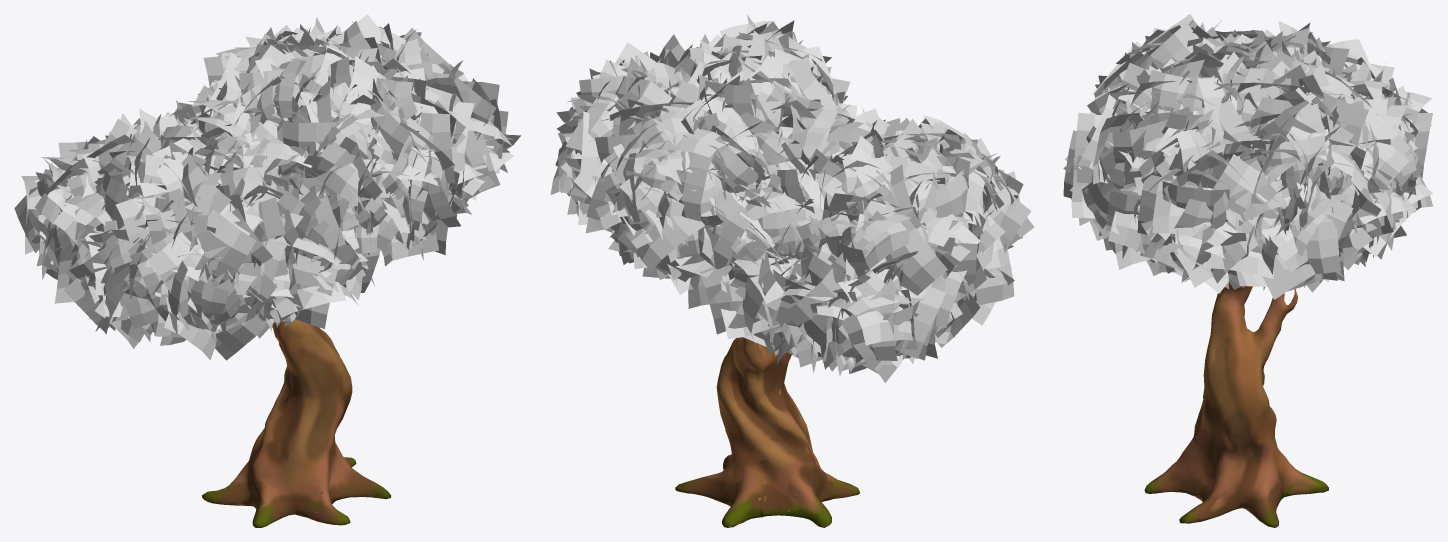
The model's file is OptimizedCherryTree.fbx.
3 renders of one model, left to right at view 1: azimuth 30°, elevation 25°; view 2: azimuth 150°, elevation 25°; view 3: azimuth 270°, elevation 25°, orthographic. The views are drawn at different scales.
Visible parts, largest first — view 1: tree_hp_LOD0, leafs2|cherry|Dupli|441, leafs2|cherry|Dupli|496, leafs2|cherry|Dupli|419, leafs|cherry|Dupli|652, leafs|cherry|Dupli|598, leafs2|cherry|Dupli|312, leafs|cherry|Dupli|441, leafs|cherry|Dupli|521, leafs2|cherry|Dupli|478, leafs2|cherry|Dupli|453, leafs|cherry|Dupli|753 (+42 smaller); view 2: tree_hp_LOD0, leafs2|cherry|Dupli|721, leafs|cherry|Dupli|943, leafs|cherry|Dupli|989, leafs2|cherry|Dupli|828, leafs|cherry|Dupli|971, leafs2|cherry|Dupli|606, leafs2|cherry|Dupli|728, leafs2|cherry|Dupli|920, leafs2|cherry|Dupli|767, leafs2|cherry|Dupli|652, leafs2|cherry|Dupli|787 (+44 smaller); view 3: tree_hp_LOD0, leafs|cherry|Dupli|300, leafs|cherry|Dupli|186, leafs|cherry|Dupli|211, leafs|cherry|Dupli|372, leafs|cherry|Dupli|428, leafs|cherry|Dupli|473, leafs|cherry|Dupli|229, leafs2|cherry|Dupli|473, leafs|cherry|Dupli|492, leafs|cherry|Dupli|55, leafs|cherry|Dupli|370 (+50 smaller).
Boxes of the visible parts, x1,y1,x2,y2 form: tree_hp_LOD0: (202,319,390,527); leafs2|cherry|Dupli|441: (197,196,256,284); leafs2|cherry|Dupli|496: (148,232,213,317); leafs2|cherry|Dupli|419: (215,305,266,360); leafs|cherry|Dupli|652: (282,121,340,165); leafs|cherry|Dupli|598: (315,159,382,202); leafs2|cherry|Dupli|312: (304,196,353,261); leafs|cherry|Dupli|441: (420,112,455,183); leafs|cherry|Dupli|521: (370,97,410,161); leafs2|cherry|Dupli|478: (185,172,221,233); leafs2|cherry|Dupli|453: (187,276,228,331); leafs|cherry|Dupli|753: (273,60,301,118); tree_hp_LOD0: (675,337,859,527); leafs2|cherry|Dupli|721: (885,215,947,295); leafs|cherry|Dupli|943: (698,190,751,269); leafs|cherry|Dupli|989: (632,215,705,271); leafs2|cherry|Dupli|828: (783,268,841,347); leafs|cherry|Dupli|971: (666,151,714,221); leafs2|cherry|Dupli|606: (976,237,1014,305); leafs2|cherry|Dupli|728: (894,286,946,358); leafs2|cherry|Dupli|920: (750,209,805,258); leafs2|cherry|Dupli|767: (838,279,912,345); leafs2|cherry|Dupli|652: (935,168,967,217); leafs2|cherry|Dupli|787: (831,293,897,360); tree_hp_LOD0: (1144,282,1328,527); leafs|cherry|Dupli|300: (1212,154,1289,221); leafs|cherry|Dupli|186: (1265,135,1332,190); leafs|cherry|Dupli|211: (1306,204,1340,273); leafs|cherry|Dupli|372: (1152,180,1207,236); leafs|cherry|Dupli|428: (1112,119,1168,163); leafs|cherry|Dupli|473: (1148,70,1199,113); leafs|cherry|Dupli|229: (1262,254,1315,299); leafs2|cherry|Dupli|473: (1140,23,1199,68); leafs|cherry|Dupli|492: (1073,112,1101,183); leafs|cherry|Dupli|55: (1313,92,1368,147); leafs|cherry|Dupli|370: (1162,181,1229,211).
Size of what is drawn, in the model's own units: 1579 by 1587 by 1169.
